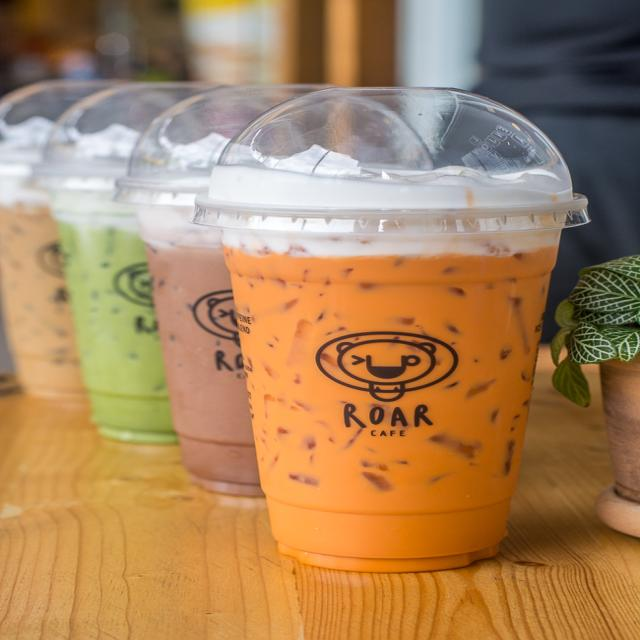cup: (194, 86, 594, 574)
